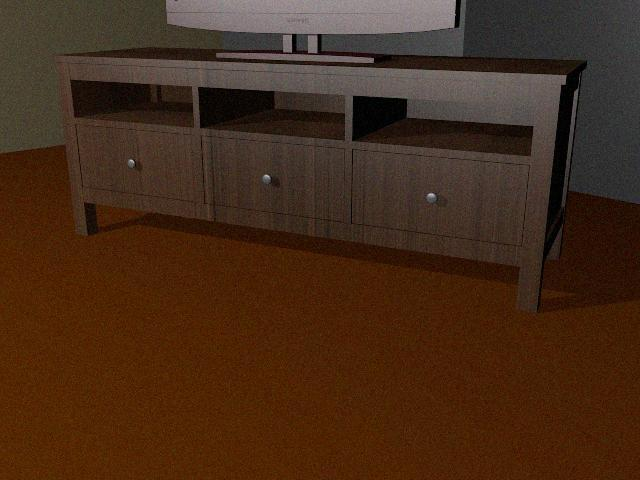cabinet_door: (352, 157, 526, 235), (212, 142, 344, 214), (80, 131, 204, 196)
handle: (420, 186, 443, 209), (254, 169, 278, 190), (124, 154, 141, 174)
